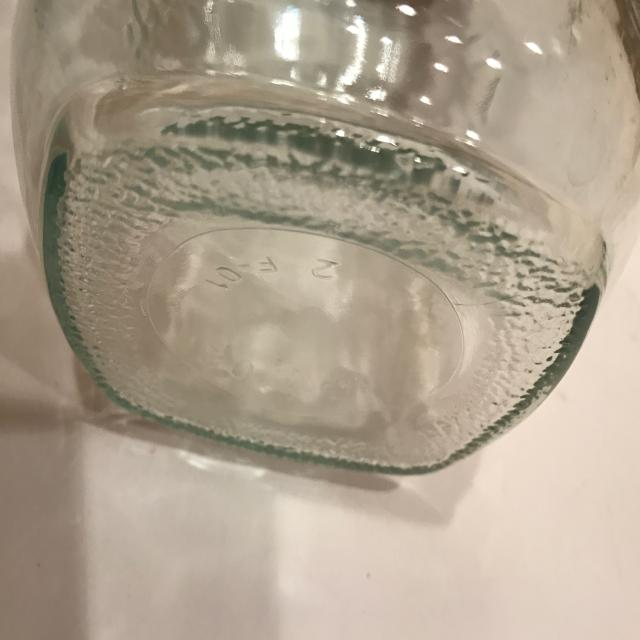glass: (9, 1, 639, 477)
